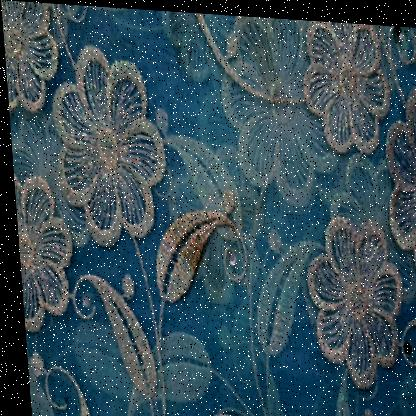spot: (157, 193, 231, 300), (241, 24, 286, 104), (159, 12, 197, 73)
